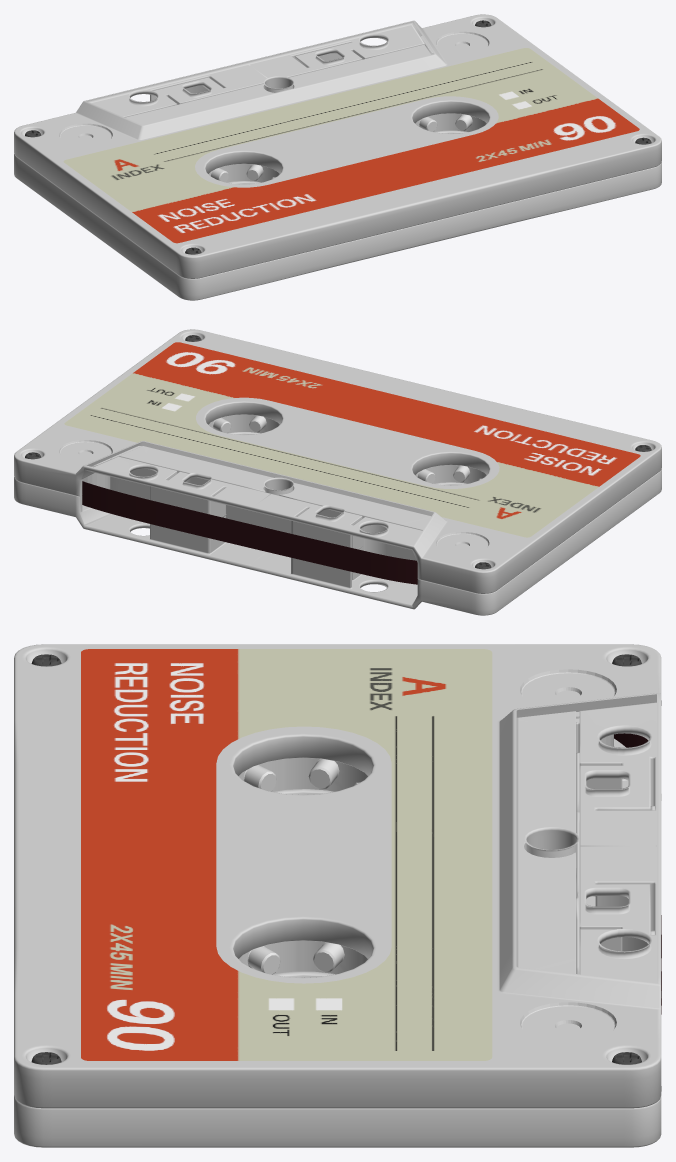
The model's file is sony-tape.glb.
The picture shows the model from 3 angles, top to bottom: view 1: azimuth 30°, elevation 25°; view 2: azimuth 150°, elevation 25°; view 3: azimuth 270°, elevation 25°; orthographic projection. The views are drawn at different scales.
Parts seen in each view (by area): view 1: Plane.033, Cylinder.110, Cylinder.106, Cylinder.108; view 2: Plane.033, Cylinder.110, BézierCurve.001, Cylinder.106, Cylinder.108; view 3: Plane.033, Cylinder.110, Cylinder.108, Cylinder.106.
Part boxes in pixels (x1,y1,x2,y2): Plane.033: (14,14,661,300); Cylinder.110: (63,48,639,243); Cylinder.106: (415,113,486,131); Cylinder.108: (208,163,279,182); Plane.033: (14,329,661,615); Cylinder.110: (64,342,640,537); BézierCurve.001: (82,481,417,584); Cylinder.106: (208,414,279,433); Cylinder.108: (415,465,486,483); Plane.033: (14,644,661,1147); Cylinder.110: (81,649,492,1060); Cylinder.108: (238,757,367,791); Cylinder.106: (239,940,367,974).
Bounding box in the file's own units: 2.74 × 0.3444 × 1.76.
Materials: 6 (1 with a texture image).
